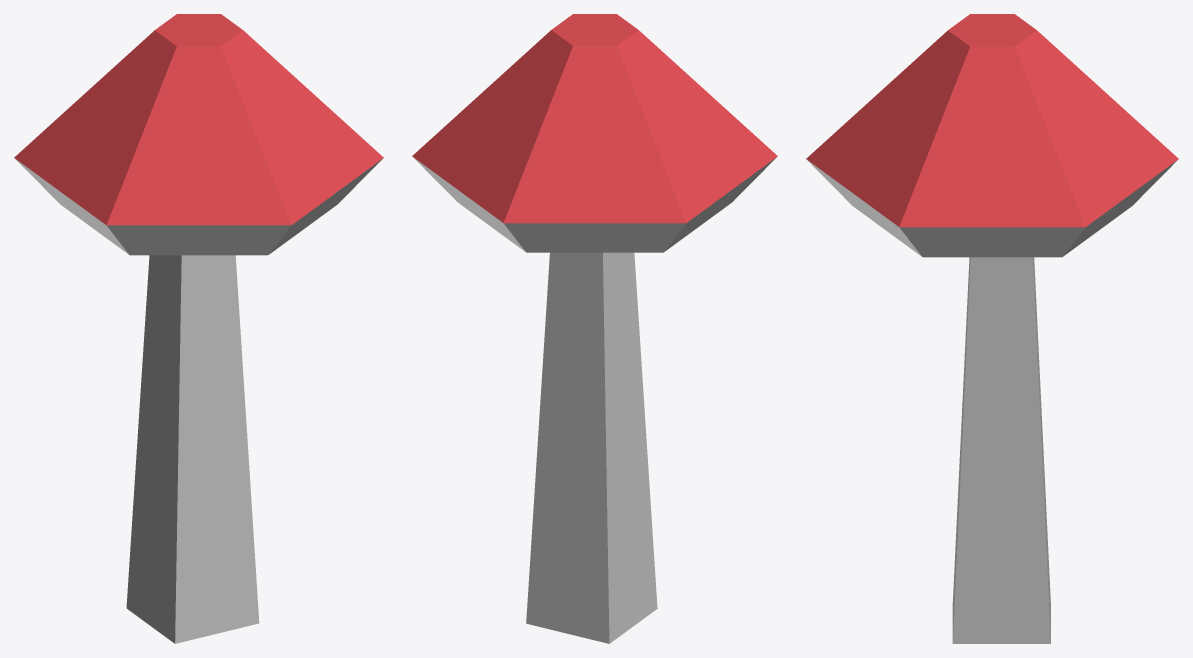
Rendered from mushroom-red-tall.glb.
3 views of the same model, side by side, from view 1: azimuth 30°, elevation 25°; view 2: azimuth 150°, elevation 25°; view 3: azimuth 270°, elevation 25° (orthographic).
Visible parts, largest first — view 1: mushroom_redTall; view 2: mushroom_redTall; view 3: mushroom_redTall.
Boxes of the visible parts, x1,y1,x2,y2 form: mushroom_redTall: [14, 14, 383, 643]; mushroom_redTall: [412, 14, 777, 643]; mushroom_redTall: [806, 14, 1178, 643].
Size of the model in its own units: 0.1235 by 0.2505 by 0.1426.
